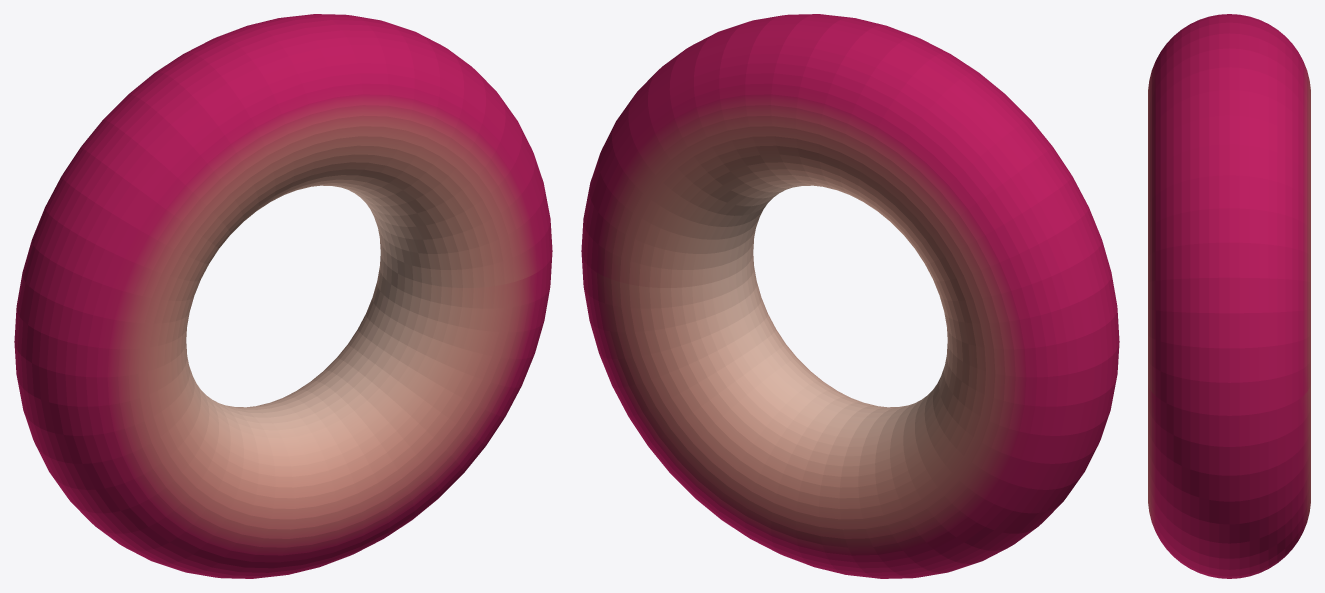
The picture shows the model from 3 angles, left to right: view 1: azimuth 30°, elevation 25°; view 2: azimuth 150°, elevation 25°; view 3: azimuth 270°, elevation 25°; orthographic projection. The views are drawn at different scales.
Parts seen in each view (by area): view 1: world; view 2: world; view 3: world.
Boxes of the visible parts, box(x1,y1,x2,y2) form: world: box(14, 14, 552, 578); world: box(581, 14, 1119, 578); world: box(1148, 14, 1310, 578).
Size of the model in its own units: 29.07 by 29.01 by 8.38.
